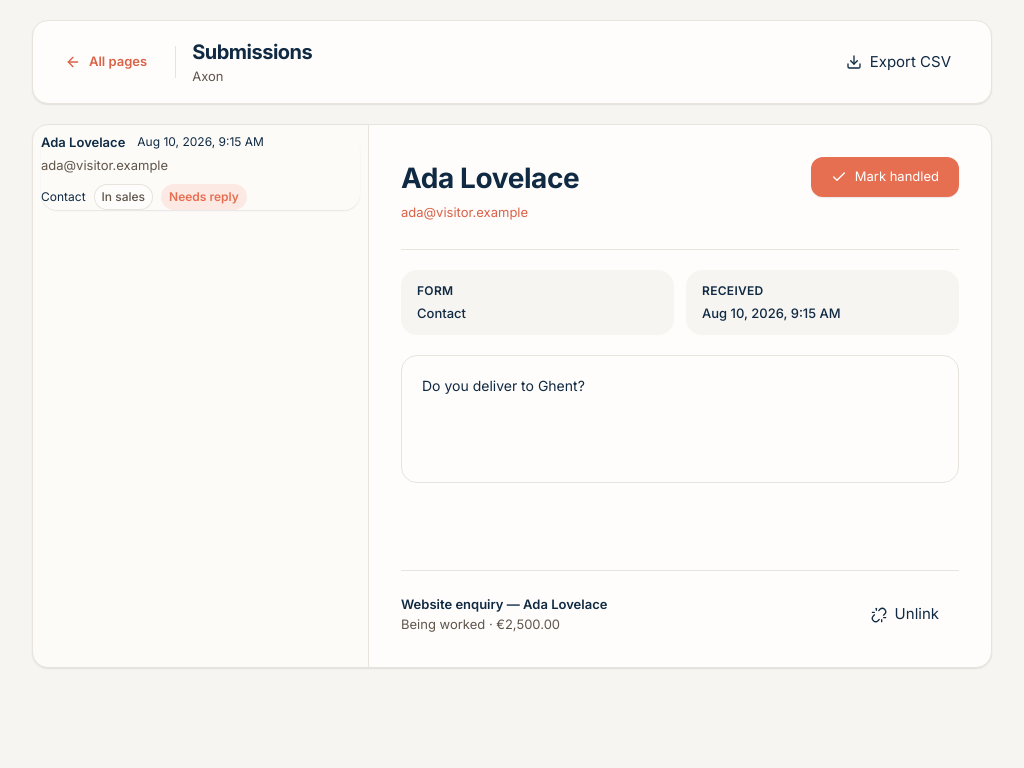
handing an enquiry to sales › a failed unlink puts the link back and says what happened
The width and height of the screenshot is (1024, 768).
Click the button "Unlink" at (905, 614), box [851, 594, 959, 634]
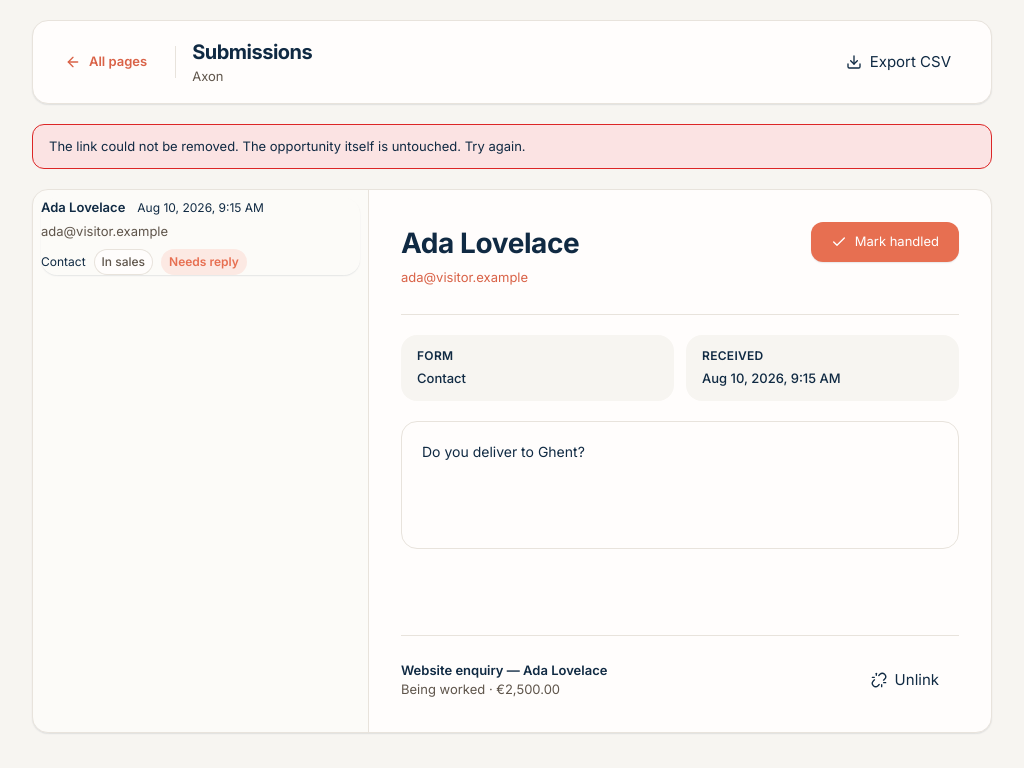
expect the text "In sales" is shown: met, box [94, 249, 153, 275]
expect the message reads "The link could not be removed. The opportunity itself is untouched. Try again.": met, box [49, 138, 526, 154]
